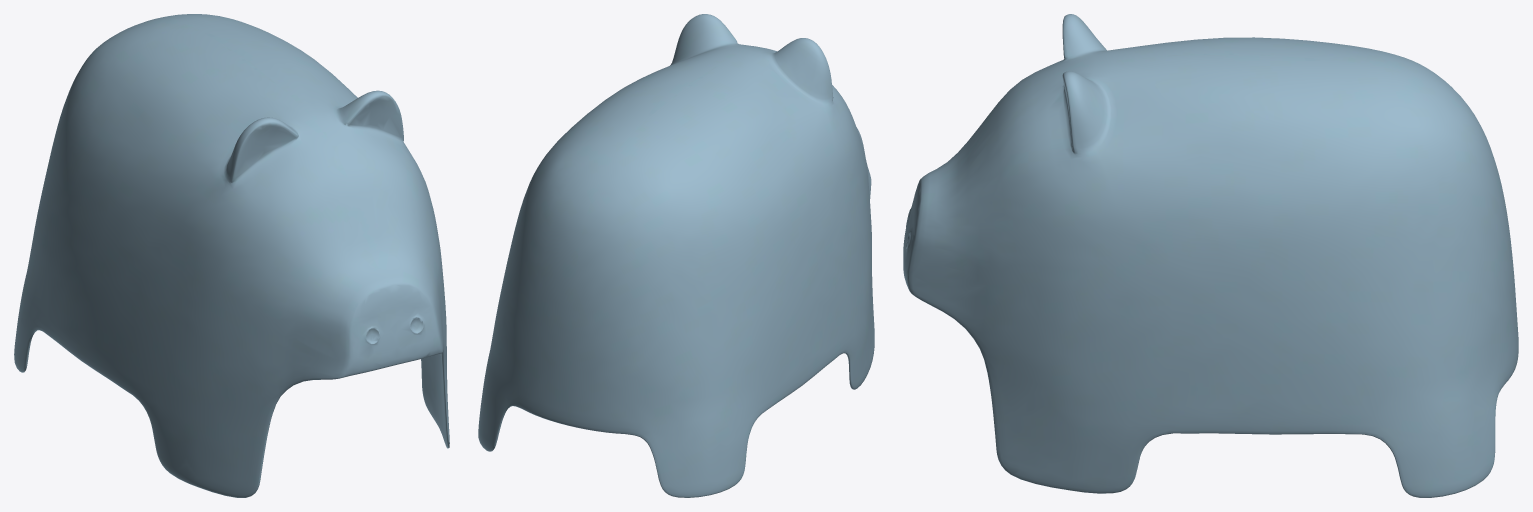
The model's file is kids_chair_abo_B07Y32Z4LS.glb.
3 renders of one model, left to right at view 1: azimuth 30°, elevation 25°; view 2: azimuth 150°, elevation 25°; view 3: azimuth 270°, elevation 25°, orthographic. The views are drawn at different scales.
Visible parts, largest first — view 1: RootNode; view 2: RootNode; view 3: RootNode.
Part boxes in pixels (x1,y1,x2,y2): RootNode: (14, 14, 449, 497); RootNode: (478, 14, 874, 497); RootNode: (903, 14, 1518, 497).
Bounding box in the file's own units: 0.3645 × 0.4232 × 0.6187.
Materials: 1 (1 with a texture image).
